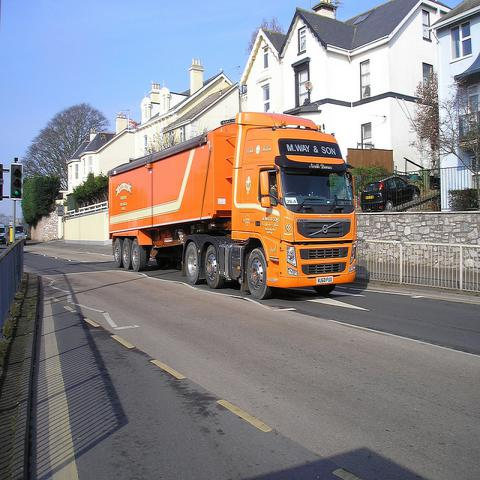car: (360, 176, 420, 212), (14, 226, 28, 246)
truck: (108, 113, 357, 300)
